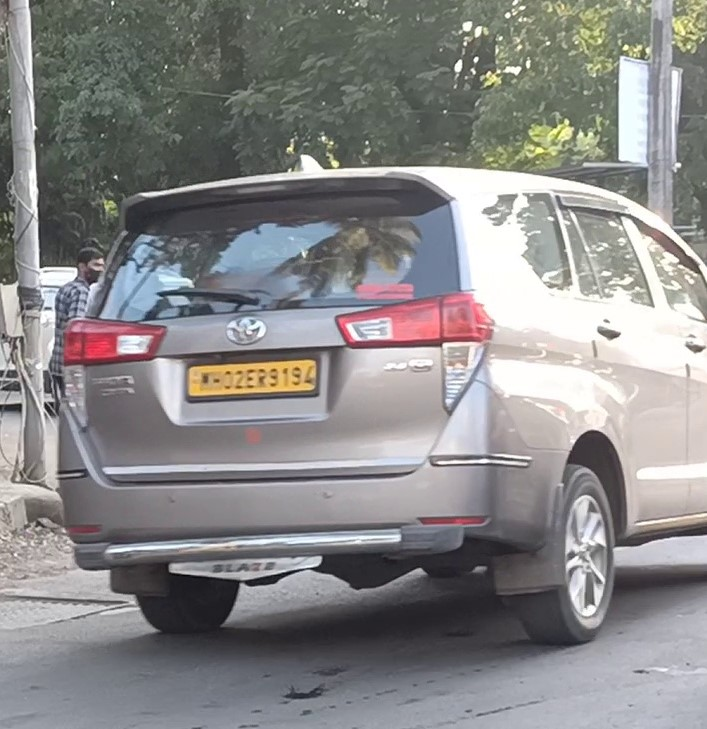MH02ER9194: (185, 357, 317, 391)
